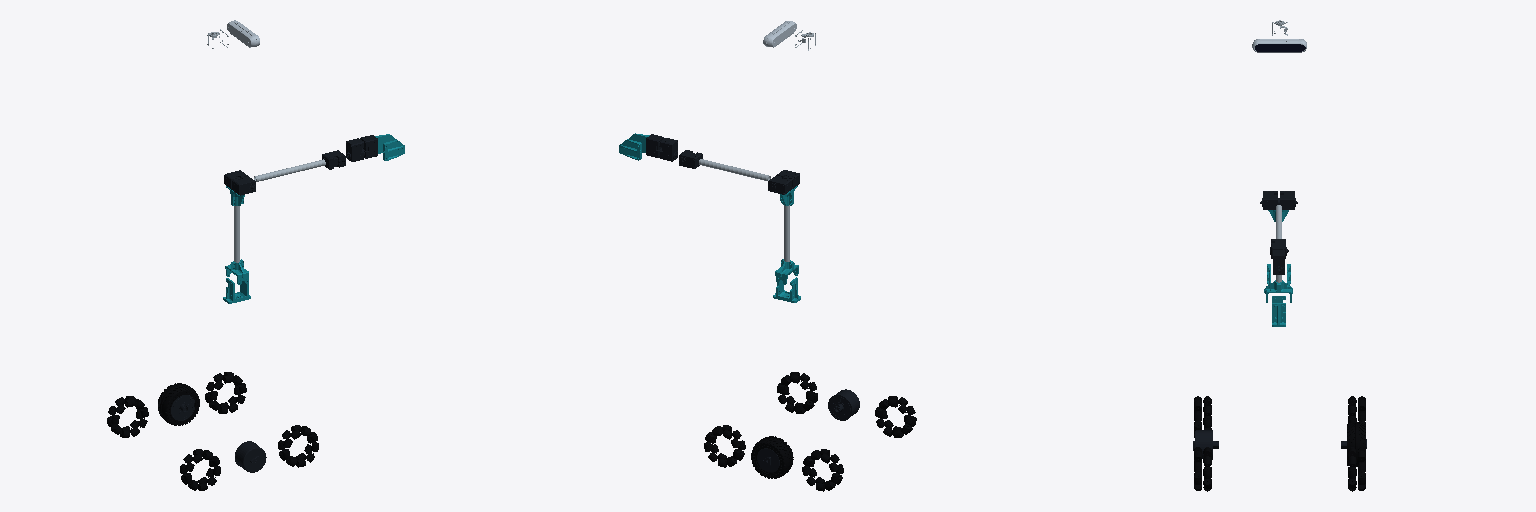
URDF robot description (runa):
<?xml version="1.0"?>
<robot name="runa">
  <material name="structure">
    <color rgba="0.23 0.29 0.33 1" />
  </material>
  <material name="metal">
    <color rgba="0.64 0.69 0.73 1" />
  </material>
  <material name="motor">
    <color rgba="0.12 0.14 0.17 1" />
  </material>
  <material name="rubber">
    <color rgba="0.065 0.07 0.08 1" />
  </material>
  <material name="printed">
    <color rgba="0.12 0.55 0.60 1" />
  </material>
  <material name="camera">
    <color rgba="0.70 0.75 0.80 1" />
  </material>
  <material name="optics">
    <color rgba="0.08 0.09 0.17 1" />
  </material>
  <link name="base_footprint" />
  <link name="base_link">
    <visual name="base_link_structure">
      <geometry>
        <mesh filename="package://runa_description/meshes/base_link_structure.stl" />
      </geometry>
      <material name="structure" />
    </visual>
    <collision name="base_link_structure">
      <geometry>
        <mesh filename="package://runa_description/meshes/base_link_structure.stl" />
      </geometry>
    </collision>
    <visual name="base_link_metal">
      <geometry>
        <mesh filename="package://runa_description/meshes/base_link_metal.stl" />
      </geometry>
      <material name="metal" />
    </visual>
    <collision name="base_link_metal">
      <geometry>
        <mesh filename="package://runa_description/meshes/base_link_metal.stl" />
      </geometry>
    </collision>
    <visual name="base_link_motor">
      <geometry>
        <mesh filename="package://runa_description/meshes/base_link_motor.stl" />
      </geometry>
      <material name="motor" />
    </visual>
    <collision name="base_link_motor">
      <geometry>
        <mesh filename="package://runa_description/meshes/base_link_motor.stl" />
      </geometry>
    </collision>
  </link>
  <link name="left_wheel_link">
    <visual name="left_wheel_link_rubber">
      <geometry>
        <mesh filename="package://runa_description/meshes/left_wheel_link_rubber.stl" />
      </geometry>
      <material name="rubber" />
    </visual>
    <collision name="left_wheel_link_rubber">
      <geometry>
        <mesh filename="package://runa_description/meshes/left_wheel_link_rubber.stl" />
      </geometry>
    </collision>
  </link>
  <link name="right_wheel_link">
    <visual name="right_wheel_link_rubber">
      <geometry>
        <mesh filename="package://runa_description/meshes/right_wheel_link_rubber.stl" />
      </geometry>
      <material name="rubber" />
    </visual>
    <collision name="right_wheel_link_rubber">
      <geometry>
        <mesh filename="package://runa_description/meshes/right_wheel_link_rubber.stl" />
      </geometry>
    </collision>
  </link>
  <link name="rear_left_omni_link">
    <visual name="rear_left_omni_link_metal">
      <geometry>
        <mesh filename="package://runa_description/meshes/rear_left_omni_link_metal.stl" />
      </geometry>
      <material name="metal" />
    </visual>
    <collision name="rear_left_omni_link_metal">
      <geometry>
        <mesh filename="package://runa_description/meshes/rear_left_omni_link_metal.stl" />
      </geometry>
    </collision>
    <visual name="rear_left_omni_link_rubber">
      <geometry>
        <mesh filename="package://runa_description/meshes/rear_left_omni_link_rubber.stl" />
      </geometry>
      <material name="rubber" />
    </visual>
    <collision name="rear_left_omni_link_rubber">
      <geometry>
        <mesh filename="package://runa_description/meshes/rear_left_omni_link_rubber.stl" />
      </geometry>
    </collision>
  </link>
  <link name="rear_right_omni_link">
    <visual name="rear_right_omni_link_metal">
      <geometry>
        <mesh filename="package://runa_description/meshes/rear_right_omni_link_metal.stl" />
      </geometry>
      <material name="metal" />
    </visual>
    <collision name="rear_right_omni_link_metal">
      <geometry>
        <mesh filename="package://runa_description/meshes/rear_right_omni_link_metal.stl" />
      </geometry>
    </collision>
    <visual name="rear_right_omni_link_rubber">
      <geometry>
        <mesh filename="package://runa_description/meshes/rear_right_omni_link_rubber.stl" />
      </geometry>
      <material name="rubber" />
    </visual>
    <collision name="rear_right_omni_link_rubber">
      <geometry>
        <mesh filename="package://runa_description/meshes/rear_right_omni_link_rubber.stl" />
      </geometry>
    </collision>
  </link>
  <link name="front_right_omni_link">
    <visual name="front_right_omni_link_metal">
      <geometry>
        <mesh filename="package://runa_description/meshes/front_right_omni_link_metal.stl" />
      </geometry>
      <material name="metal" />
    </visual>
    <collision name="front_right_omni_link_metal">
      <geometry>
        <mesh filename="package://runa_description/meshes/front_right_omni_link_metal.stl" />
      </geometry>
    </collision>
    <visual name="front_right_omni_link_rubber">
      <geometry>
        <mesh filename="package://runa_description/meshes/front_right_omni_link_rubber.stl" />
      </geometry>
      <material name="rubber" />
    </visual>
    <collision name="front_right_omni_link_rubber">
      <geometry>
        <mesh filename="package://runa_description/meshes/front_right_omni_link_rubber.stl" />
      </geometry>
    </collision>
  </link>
  <link name="front_left_omni_link">
    <visual name="front_left_omni_link_metal">
      <geometry>
        <mesh filename="package://runa_description/meshes/front_left_omni_link_metal.stl" />
      </geometry>
      <material name="metal" />
    </visual>
    <collision name="front_left_omni_link_metal">
      <geometry>
        <mesh filename="package://runa_description/meshes/front_left_omni_link_metal.stl" />
      </geometry>
    </collision>
    <visual name="front_left_omni_link_rubber">
      <geometry>
        <mesh filename="package://runa_description/meshes/front_left_omni_link_rubber.stl" />
      </geometry>
      <material name="rubber" />
    </visual>
    <collision name="front_left_omni_link_rubber">
      <geometry>
        <mesh filename="package://runa_description/meshes/front_left_omni_link_rubber.stl" />
      </geometry>
    </collision>
  </link>
  <link name="lift_link">
    <visual name="lift_link_printed">
      <geometry>
        <mesh filename="package://runa_description/meshes/lift_link_printed.stl" />
      </geometry>
      <material name="printed" />
    </visual>
    <collision name="lift_link_printed">
      <geometry>
        <mesh filename="package://runa_description/meshes/lift_link_printed.stl" />
      </geometry>
    </collision>
  </link>
  <link name="arm_link_1">
    <visual name="arm_link_1_metal">
      <geometry>
        <mesh filename="package://runa_description/meshes/arm_link_1_metal.stl" />
      </geometry>
      <material name="metal" />
    </visual>
    <collision name="arm_link_1_metal">
      <geometry>
        <mesh filename="package://runa_description/meshes/arm_link_1_metal.stl" />
      </geometry>
    </collision>
    <visual name="arm_link_1_motor">
      <geometry>
        <mesh filename="package://runa_description/meshes/arm_link_1_motor.stl" />
      </geometry>
      <material name="motor" />
    </visual>
    <collision name="arm_link_1_motor">
      <geometry>
        <mesh filename="package://runa_description/meshes/arm_link_1_motor.stl" />
      </geometry>
    </collision>
    <visual name="arm_link_1_printed">
      <geometry>
        <mesh filename="package://runa_description/meshes/arm_link_1_printed.stl" />
      </geometry>
      <material name="printed" />
    </visual>
    <collision name="arm_link_1_printed">
      <geometry>
        <mesh filename="package://runa_description/meshes/arm_link_1_printed.stl" />
      </geometry>
    </collision>
  </link>
  <link name="arm_link_2">
    <visual name="arm_link_2_motor">
      <geometry>
        <mesh filename="package://runa_description/meshes/arm_link_2_motor.stl" />
      </geometry>
      <material name="motor" />
    </visual>
    <collision name="arm_link_2_motor">
      <geometry>
        <mesh filename="package://runa_description/meshes/arm_link_2_motor.stl" />
      </geometry>
    </collision>
    <visual name="arm_link_2_printed">
      <geometry>
        <mesh filename="package://runa_description/meshes/arm_link_2_printed.stl" />
      </geometry>
      <material name="printed" />
    </visual>
    <collision name="arm_link_2_printed">
      <geometry>
        <mesh filename="package://runa_description/meshes/arm_link_2_printed.stl" />
      </geometry>
    </collision>
    <visual name="arm_link_2_metal">
      <geometry>
        <mesh filename="package://runa_description/meshes/arm_link_2_metal.stl" />
      </geometry>
      <material name="metal" />
    </visual>
    <collision name="arm_link_2_metal">
      <geometry>
        <mesh filename="package://runa_description/meshes/arm_link_2_metal.stl" />
      </geometry>
    </collision>
  </link>
  <link name="arm_link_3">
    <visual name="arm_link_3_motor">
      <geometry>
        <mesh filename="package://runa_description/meshes/arm_link_3_motor.stl" />
      </geometry>
      <material name="motor" />
    </visual>
    <collision name="arm_link_3_motor">
      <geometry>
        <mesh filename="package://runa_description/meshes/arm_link_3_motor.stl" />
      </geometry>
    </collision>
    <visual name="arm_link_3_printed">
      <geometry>
        <mesh filename="package://runa_description/meshes/arm_link_3_printed.stl" />
      </geometry>
      <material name="printed" />
    </visual>
    <collision name="arm_link_3_printed">
      <geometry>
        <mesh filename="package://runa_description/meshes/arm_link_3_printed.stl" />
      </geometry>
    </collision>
    <visual name="arm_link_3_metal">
      <geometry>
        <mesh filename="package://runa_description/meshes/arm_link_3_metal.stl" />
      </geometry>
      <material name="metal" />
    </visual>
    <collision name="arm_link_3_metal">
      <geometry>
        <mesh filename="package://runa_description/meshes/arm_link_3_metal.stl" />
      </geometry>
    </collision>
  </link>
  <link name="arm_link_4">
    <visual name="arm_link_4_motor">
      <geometry>
        <mesh filename="package://runa_description/meshes/arm_link_4_motor.stl" />
      </geometry>
      <material name="motor" />
    </visual>
    <collision name="arm_link_4_motor">
      <geometry>
        <mesh filename="package://runa_description/meshes/arm_link_4_motor.stl" />
      </geometry>
    </collision>
    <visual name="arm_link_4_printed">
      <geometry>
        <mesh filename="package://runa_description/meshes/arm_link_4_printed.stl" />
      </geometry>
      <material name="printed" />
    </visual>
    <collision name="arm_link_4_printed">
      <geometry>
        <mesh filename="package://runa_description/meshes/arm_link_4_printed.stl" />
      </geometry>
    </collision>
  </link>
  <link name="arm_link_5">
    <visual name="arm_link_5_motor">
      <geometry>
        <mesh filename="package://runa_description/meshes/arm_link_5_motor.stl" />
      </geometry>
      <material name="motor" />
    </visual>
    <collision name="arm_link_5_motor">
      <geometry>
        <mesh filename="package://runa_description/meshes/arm_link_5_motor.stl" />
      </geometry>
    </collision>
    <visual name="arm_link_5_printed">
      <geometry>
        <mesh filename="package://runa_description/meshes/arm_link_5_printed.stl" />
      </geometry>
      <material name="printed" />
    </visual>
    <collision name="arm_link_5_printed">
      <geometry>
        <mesh filename="package://runa_description/meshes/arm_link_5_printed.stl" />
      </geometry>
    </collision>
    <visual name="arm_link_5_metal">
      <geometry>
        <mesh filename="package://runa_description/meshes/arm_link_5_metal.stl" />
      </geometry>
      <material name="metal" />
    </visual>
    <collision name="arm_link_5_metal">
      <geometry>
        <mesh filename="package://runa_description/meshes/arm_link_5_metal.stl" />
      </geometry>
    </collision>
  </link>
  <link name="left_finger_link">
    <visual name="left_finger_link_printed">
      <geometry>
        <mesh filename="package://runa_description/meshes/left_finger_link_printed.stl" />
      </geometry>
      <material name="printed" />
    </visual>
    <collision name="left_finger_link_printed">
      <geometry>
        <mesh filename="package://runa_description/meshes/left_finger_link_printed.stl" />
      </geometry>
    </collision>
  </link>
  <link name="right_finger_link">
    <visual name="right_finger_link_printed">
      <geometry>
        <mesh filename="package://runa_description/meshes/right_finger_link_printed.stl" />
      </geometry>
      <material name="printed" />
    </visual>
    <collision name="right_finger_link_printed">
      <geometry>
        <mesh filename="package://runa_description/meshes/right_finger_link_printed.stl" />
      </geometry>
    </collision>
  </link>
  <link name="tool0" />
  <link name="head_pan_link">
    <visual name="head_pan_link_motor">
      <geometry>
        <mesh filename="package://runa_description/meshes/head_pan_link_motor.stl" />
      </geometry>
      <material name="motor" />
    </visual>
    <collision name="head_pan_link_motor">
      <geometry>
        <mesh filename="package://runa_description/meshes/head_pan_link_motor.stl" />
      </geometry>
    </collision>
    <visual name="head_pan_link_metal">
      <geometry>
        <mesh filename="package://runa_description/meshes/head_pan_link_metal.stl" />
      </geometry>
      <material name="metal" />
    </visual>
    <collision name="head_pan_link_metal">
      <geometry>
        <mesh filename="package://runa_description/meshes/head_pan_link_metal.stl" />
      </geometry>
    </collision>
  </link>
  <link name="head_tilt_link">
    <visual name="head_tilt_link_metal">
      <geometry>
        <mesh filename="package://runa_description/meshes/head_tilt_link_metal.stl" />
      </geometry>
      <material name="metal" />
    </visual>
    <collision name="head_tilt_link_metal">
      <geometry>
        <mesh filename="package://runa_description/meshes/head_tilt_link_metal.stl" />
      </geometry>
    </collision>
    <visual name="head_tilt_link_printed">
      <geometry>
        <mesh filename="package://runa_description/meshes/head_tilt_link_printed.stl" />
      </geometry>
      <material name="printed" />
    </visual>
    <collision name="head_tilt_link_printed">
      <geometry>
        <mesh filename="package://runa_description/meshes/head_tilt_link_printed.stl" />
      </geometry>
    </collision>
  </link>
  <link name="head_camera_link">
    <visual name="head_camera_link_camera">
      <geometry>
        <mesh filename="package://runa_description/meshes/head_camera_link_camera.stl" />
      </geometry>
      <material name="camera" />
    </visual>
    <collision name="head_camera_link_camera">
      <geometry>
        <mesh filename="package://runa_description/meshes/head_camera_link_camera.stl" />
      </geometry>
    </collision>
    <visual name="head_camera_link_optics">
      <geometry>
        <mesh filename="package://runa_description/meshes/head_camera_link_optics.stl" />
      </geometry>
      <material name="optics" />
    </visual>
    <collision name="head_camera_link_optics">
      <geometry>
        <mesh filename="package://runa_description/meshes/head_camera_link_optics.stl" />
      </geometry>
    </collision>
  </link>
  <link name="head_camera_optical_frame" />
  <link name="wrist_camera_link">
    <visual name="wrist_camera_link_camera">
      <geometry>
        <mesh filename="package://runa_description/meshes/wrist_camera_link_camera.stl" />
      </geometry>
      <material name="camera" />
    </visual>
    <collision name="wrist_camera_link_camera">
      <geometry>
        <mesh filename="package://runa_description/meshes/wrist_camera_link_camera.stl" />
      </geometry>
    </collision>
  </link>
  <link name="wrist_camera_optical_frame" />
  <joint name="base_footprint_joint" type="fixed">
    <parent link="base_footprint" />
    <child link="base_link" />
    <origin xyz="0 0 0.05035" rpy="0 0 0" />
  </joint>
  <joint name="left_wheel_joint" type="continuous">
    <parent link="base_link" />
    <child link="left_wheel_link" />
    <origin xyz="0 0.1725 0" rpy="0 0 0" />
    <axis xyz="0 1 0" />
  </joint>
  <joint name="right_wheel_joint" type="continuous">
    <parent link="base_link" />
    <child link="right_wheel_link" />
    <origin xyz="0 -0.1725 0" rpy="0 0 0" />
    <axis xyz="0 1 0" />
  </joint>
  <joint name="rear_left_omni_joint" type="continuous">
    <parent link="base_link" />
    <child link="rear_left_omni_link" />
    <origin xyz="-0.14 0.1732 1.00000000003e-07" rpy="0 0 0" />
    <axis xyz="0 1 0" />
  </joint>
  <joint name="rear_right_omni_joint" type="continuous">
    <parent link="base_link" />
    <child link="rear_right_omni_link" />
    <origin xyz="-0.14 -0.1732 1.00000000003e-07" rpy="0 0 0" />
    <axis xyz="0 1 0" />
  </joint>
  <joint name="front_right_omni_joint" type="continuous">
    <parent link="base_link" />
    <child link="front_right_omni_link" />
    <origin xyz="0.13 -0.1732 1.00000000003e-07" rpy="0 0 0" />
    <axis xyz="0 1 0" />
  </joint>
  <joint name="front_left_omni_joint" type="continuous">
    <parent link="base_link" />
    <child link="front_left_omni_link" />
    <origin xyz="0.13 0.1732 1.00000000003e-07" rpy="0 0 0" />
    <axis xyz="0 1 0" />
  </joint>
  <joint name="lift_joint" type="prismatic">
    <parent link="base_link" />
    <child link="lift_link" />
    <origin xyz="0.06 -0.00247951451335 0.2962501" rpy="0 0 0" />
    <axis xyz="0 0 1" />
    <limit lower="0.0" upper="0.2" effort="1" velocity="0.05" />
  </joint>
  <joint name="arm_joint_1" type="revolute">
    <parent link="lift_link" />
    <child link="arm_link_1" />
    <origin xyz="0 0 0" rpy="0 0 0" />
    <axis xyz="0 0 1" />
    <limit lower="-3.141592653589793" upper="3.141592653589793" effort="1" velocity="1" />
  </joint>
  <joint name="arm_joint_2" type="revolute">
    <parent link="arm_link_1" />
    <child link="arm_link_2" />
    <origin xyz="0 0 0.0925204854866" rpy="0 0 0" />
    <axis xyz="0 1 0" />
    <limit lower="-3.141592653589793" upper="3.141592653589793" effort="1" velocity="1" />
  </joint>
  <joint name="arm_joint_3" type="revolute">
    <parent link="arm_link_2" />
    <child link="arm_link_3" />
    <origin xyz="0.02 0 0.24875" rpy="0 0 0" />
    <axis xyz="0 1 0" />
    <limit lower="-3.141592653589793" upper="3.141592653589793" effort="1" velocity="1" />
  </joint>
  <joint name="arm_joint_4" type="revolute">
    <parent link="arm_link_3" />
    <child link="arm_link_4" />
    <origin xyz="0.258 0 3e-05" rpy="0 0 0" />
    <axis xyz="0 1 0" />
    <limit lower="-3.141592653589793" upper="3.141592653589793" effort="1" velocity="1" />
  </joint>
  <joint name="arm_joint_5" type="revolute">
    <parent link="arm_link_4" />
    <child link="arm_link_5" />
    <origin xyz="0.066 0 0" rpy="0 0 0" />
    <axis xyz="1 0 0" />
    <limit lower="-3.141592653589793" upper="3.141592653589793" effort="1" velocity="1" />
  </joint>
  <joint name="gripper_joint" type="prismatic">
    <parent link="arm_link_5" />
    <child link="left_finger_link" />
    <origin xyz="0.0488 0.02225 0" rpy="0 0 0" />
    <axis xyz="0 1 0" />
    <limit lower="0" upper="0.015" effort="1" velocity="0.05" />
  </joint>
  <joint name="right_finger_joint" type="prismatic">
    <parent link="arm_link_5" />
    <child link="right_finger_link" />
    <origin xyz="0.0488 -0.02225 0" rpy="0 0 0" />
    <axis xyz="0 -1 0" />
    <limit lower="0" upper="0.015" effort="1" velocity="0.05" />
    <mimic joint="gripper_joint" multiplier="1" offset="0" />
  </joint>
  <joint name="tool0_joint" type="fixed">
    <parent link="arm_link_5" />
    <child link="tool0" />
    <origin xyz="0.1068 0 0" rpy="0 0 0" />
  </joint>
  <joint name="head_pan_joint" type="revolute">
    <parent link="base_link" />
    <child link="head_pan_link" />
    <origin xyz="-0.004245366146 -1.7807411e-05 1.00693584717" rpy="0 0 0" />
    <axis xyz="0 0 1" />
    <limit lower="-1.5707963267948966" upper="1.5707963267948966" effort="1" velocity="1" />
  </joint>
  <joint name="head_tilt_joint" type="revolute">
    <parent link="head_pan_link" />
    <child link="head_tilt_link" />
    <origin xyz="0.024 0 0.019" rpy="0 0 0" />
    <axis xyz="0 1 0" />
    <limit lower="-1.0471975511965976" upper="1.0471975511965976" effort="1" velocity="1" />
  </joint>
  <joint name="head_camera_joint" type="fixed">
    <parent link="head_tilt_link" />
    <child link="head_camera_link" />
    <origin xyz="0.058931751138 -0.0005 -0.000112699168" rpy="0 0 0" />
  </joint>
  <joint name="head_camera_optical_joint" type="fixed">
    <parent link="head_camera_link" />
    <child link="head_camera_optical_frame" />
    <origin xyz="0.013 0 0" rpy="-1.57079632679 0 -1.57079632679" />
  </joint>
  <joint name="wrist_camera_joint" type="fixed">
    <parent link="arm_link_5" />
    <child link="wrist_camera_link" />
    <origin xyz="0.003375 0 0.0577499645133" rpy="0 0 0" />
  </joint>
  <joint name="wrist_camera_optical_joint" type="fixed">
    <parent link="wrist_camera_link" />
    <child link="wrist_camera_optical_frame" />
    <origin xyz="0.012525 0 0" rpy="-1.57079632679 0 -1.57079632679" />
  </joint>
</robot>

--- Facts derived from the render (not from the file) ---
The picture shows the robot from 3 angles, left to right: view 1: azimuth 30°, elevation 25°; view 2: azimuth 150°, elevation 25°; view 3: azimuth 270°, elevation 25°; orthographic projection.
Robot: runa — 23 links, 22 joints (7 revolute, 6 continuous, 3 prismatic, 6 fixed); root link base_footprint; default pose: every joint at zero.
Visible links, largest first — view 1: arm_link_2, base_link, front_left_omni_link, rear_left_omni_link, front_right_omni_link, rear_right_omni_link, left_wheel_link, arm_link_3; view 2: arm_link_2, base_link, rear_left_omni_link, front_left_omni_link, rear_right_omni_link, left_wheel_link, front_right_omni_link, arm_link_3; view 3: arm_link_2, head_camera_link, front_right_omni_link, front_left_omni_link, rear_right_omni_link, left_wheel_link.
Boxes of the visible links, x1,y1,x2,y2 form: arm_link_2: (224,170,255,284); base_link: (171,395,266,472); front_left_omni_link: (205,372,246,413); rear_left_omni_link: (107,396,148,437); front_right_omni_link: (278,425,318,467); rear_right_omni_link: (180,449,220,490); left_wheel_link: (158,383,199,425); arm_link_3: (254,150,345,181); arm_link_2: (768,170,799,284); base_link: (757,389,859,472); rear_left_omni_link: (802,449,843,491); front_left_omni_link: (704,425,745,467); rear_right_omni_link: (875,396,916,437); left_wheel_link: (751,436,793,478); front_right_omni_link: (777,372,817,413); arm_link_3: (679,150,770,180); arm_link_2: (1260,191,1297,302); head_camera_link: (1252,39,1306,52); front_right_omni_link: (1194,447,1211,491); front_left_omni_link: (1348,447,1365,491); rear_right_omni_link: (1194,396,1211,437); left_wheel_link: (1347,422,1365,466).
Size in the robot's own frame: 0.7008 by 0.3926 by 1.1 metres.
Meshes: 37 distinct files referenced, 19 mesh visuals loaded (19 binary STL); not drawn: 18 (reference not matched to a file when rendering).
